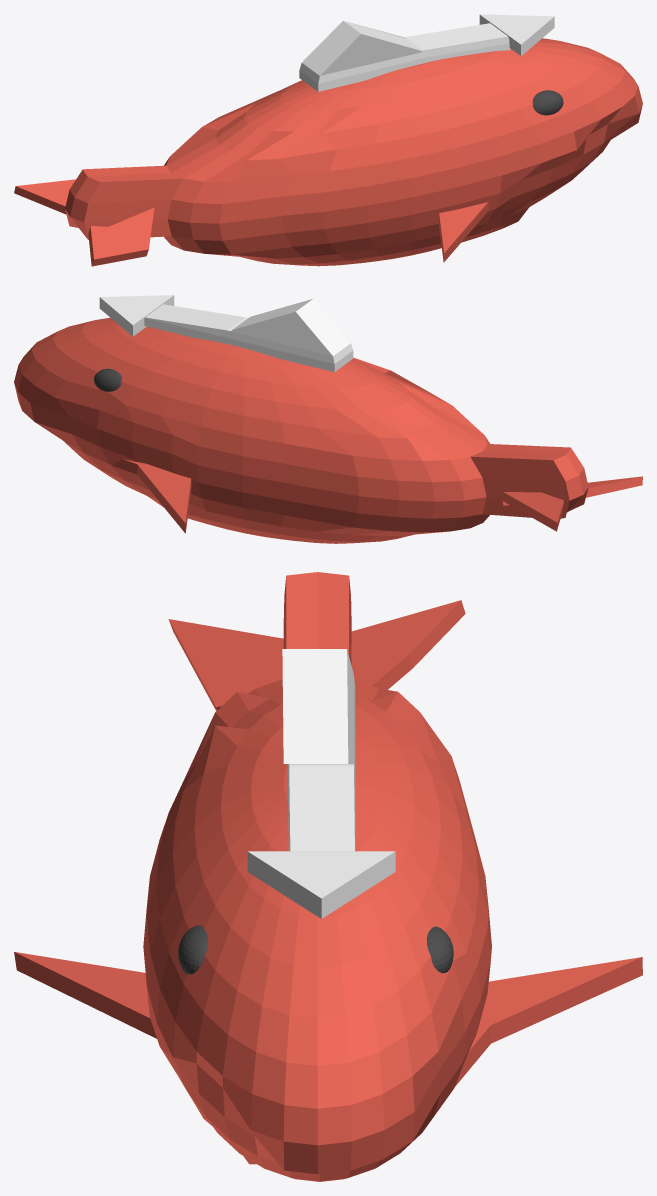
Rendered from SharkRed.fbx.
3 renders of one model, top to bottom at view 1: azimuth 30°, elevation 25°; view 2: azimuth 150°, elevation 25°; view 3: azimuth 270°, elevation 25°, orthographic. The views are drawn at different scales.
Parts seen in each view (by area): view 1: Shark; view 2: Shark; view 3: Shark.
Boxes of the visible parts, bbox=[...] form: Shark: bbox=[14, 14, 642, 266]; Shark: bbox=[14, 295, 642, 543]; Shark: bbox=[14, 572, 642, 1181].
Bounding box in the file's own units: 799 × 303 × 416.
